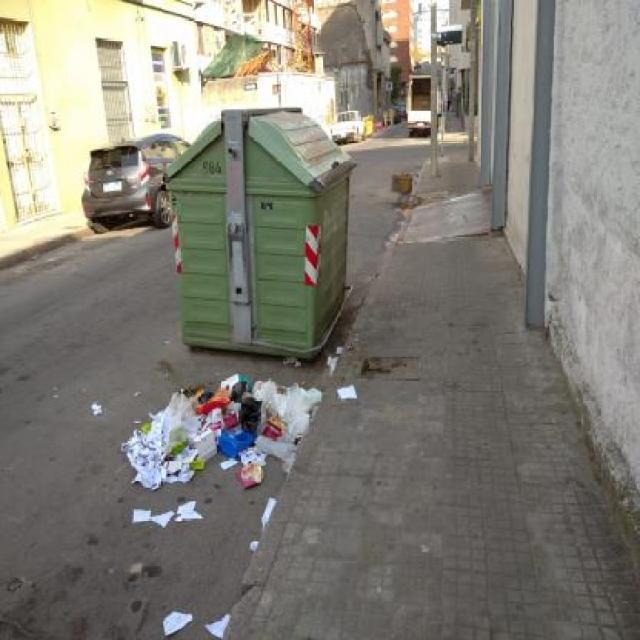garbage: (89, 360, 386, 626)
